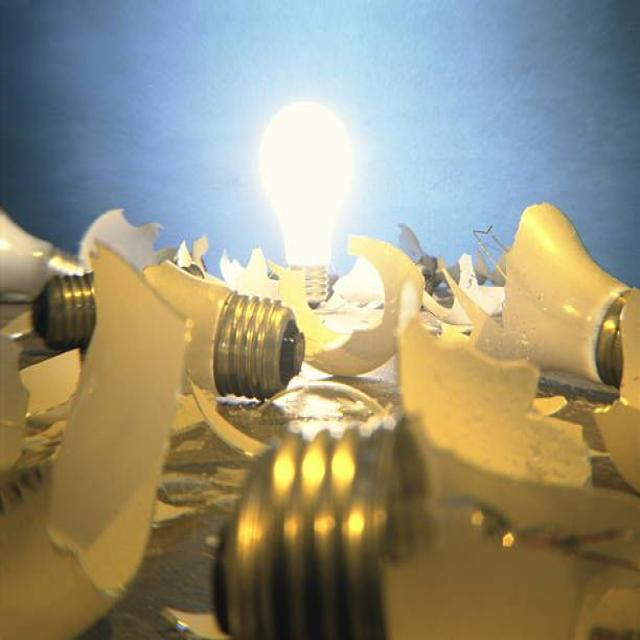electronic: (0, 205, 303, 637), (256, 97, 356, 303)
